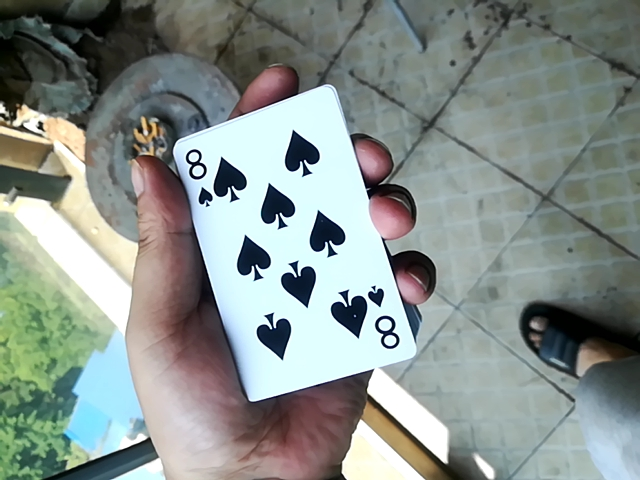ht 8: (160, 71, 432, 408)
